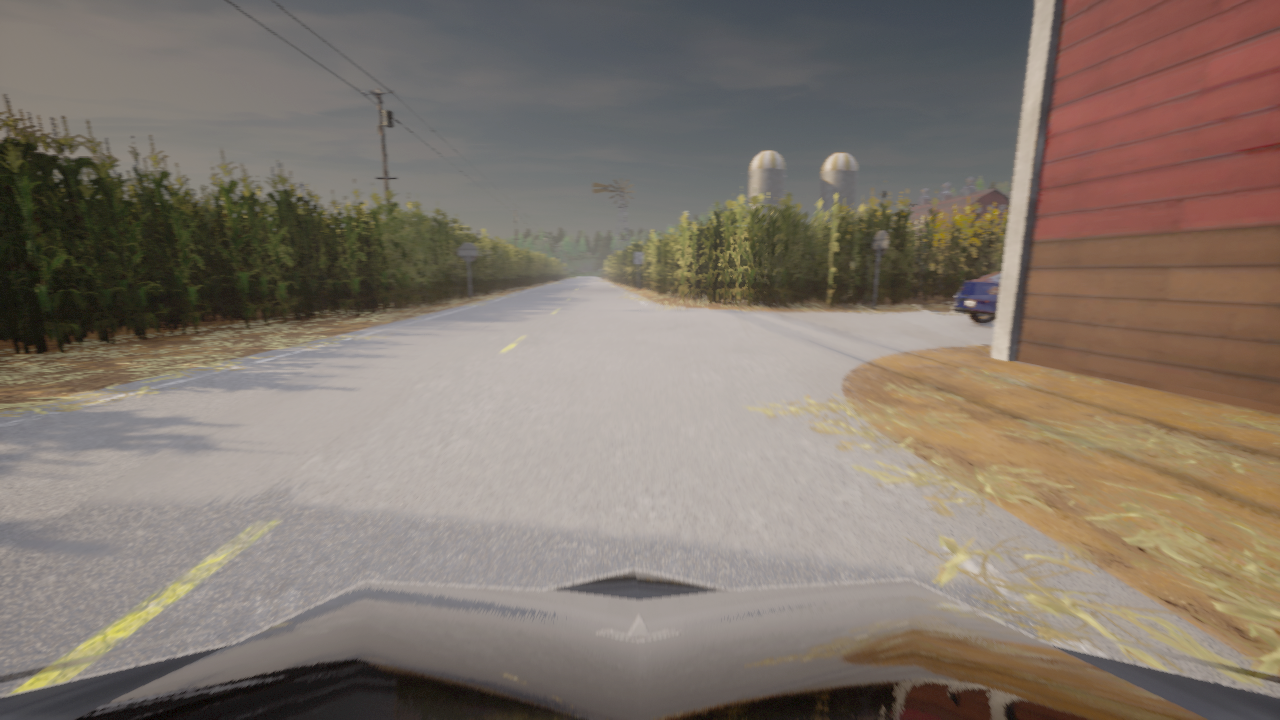cyclist: (0, 569, 1279, 719), (953, 271, 1001, 323)
